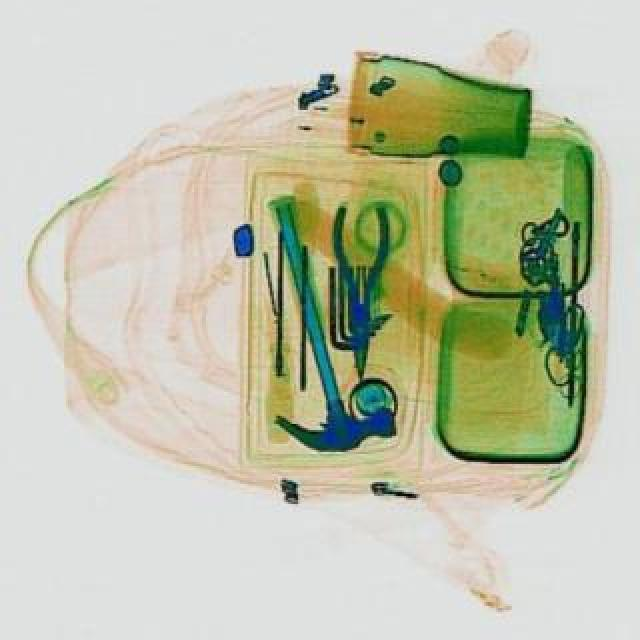wrench: (332, 202, 388, 374)
